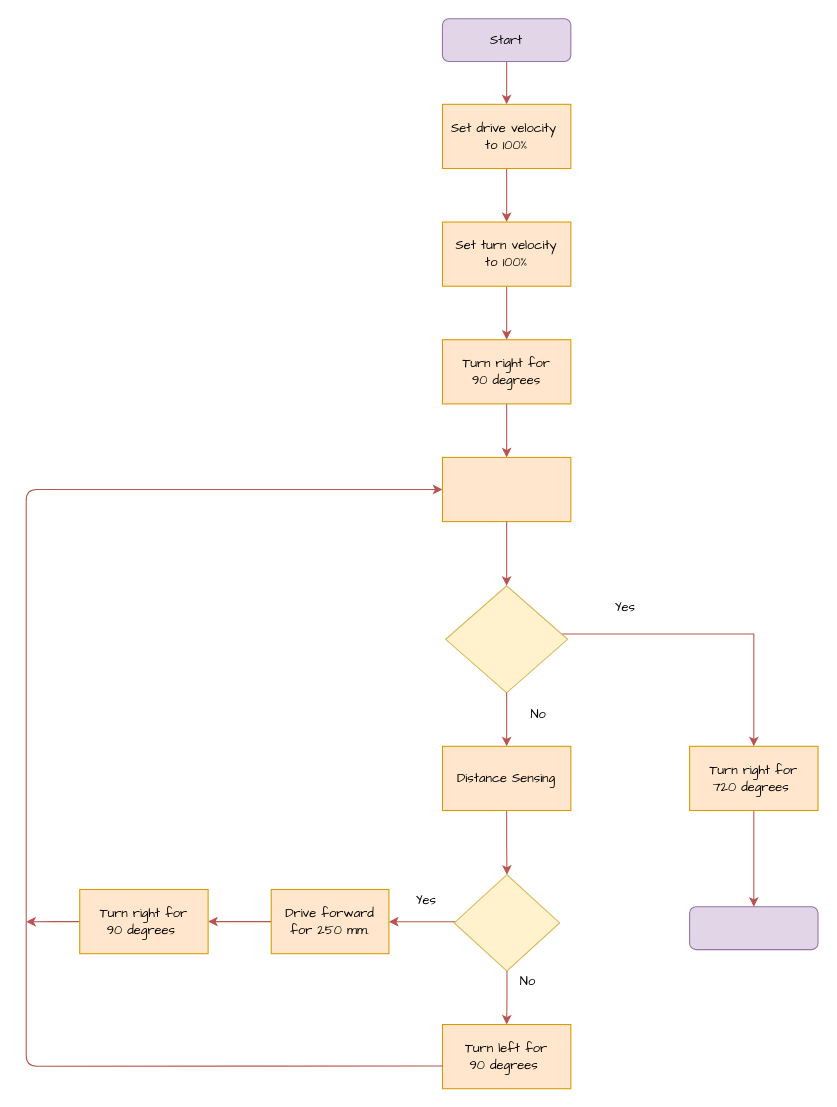
This 837x1107 diagram has some shape labels left out. The shapes that lost their labels are listed below. From the top down, each one's centre as x and y in pixels, then its label:
(x=506, y=489): Eye Sensing
(x=506, y=639): Down eye sensor facing red?
(x=506, y=922): Distance in mm. > 200?
(x=753, y=928): End of the algorithm
